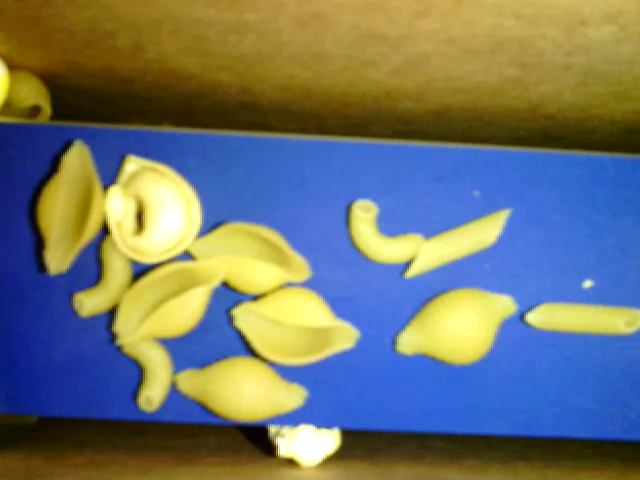elbow: (345, 196, 426, 267), (73, 222, 131, 318), (123, 329, 178, 413)
penne: (403, 209, 511, 279), (525, 302, 639, 336)
shell: (187, 212, 311, 301), (107, 252, 226, 344), (36, 138, 107, 285), (396, 286, 517, 368), (234, 286, 354, 365), (177, 363, 311, 423)
tortellini: (105, 153, 208, 261)
